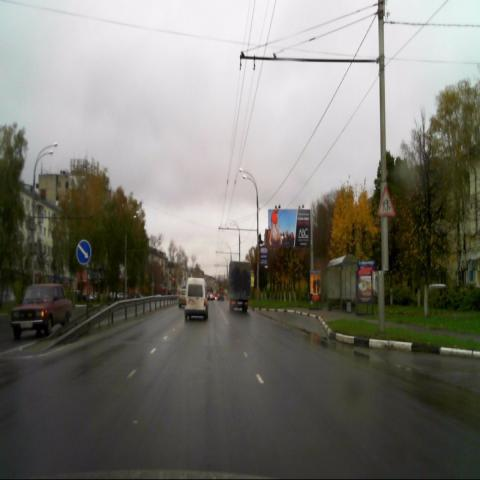1_23: (377, 185, 396, 216)
